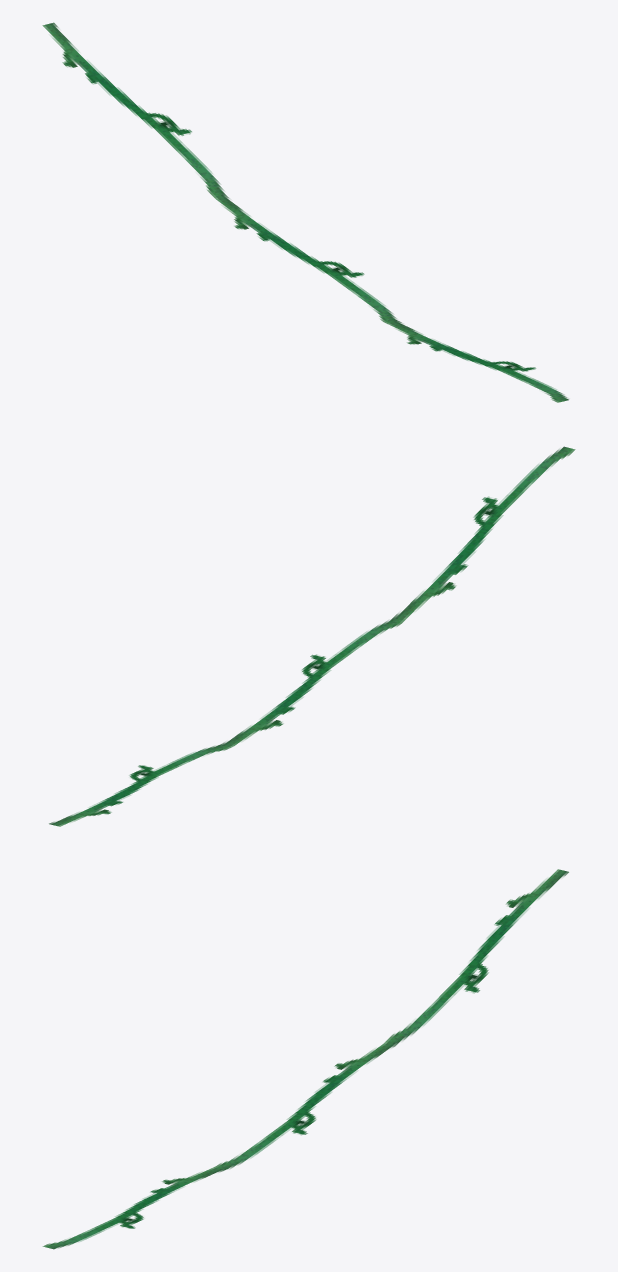
Rendered from bent_vines_2_thin.glb.
3 views of the same model, one above another, from view 1: azimuth 30°, elevation 25°; view 2: azimuth 150°, elevation 25°; view 3: azimuth 330°, elevation 25° (orthographic).
Parts seen in each view (by area): view 1: Bent Vines 2 Thin; view 2: Bent Vines 2 Thin; view 3: Bent Vines 2 Thin.
Part boxes in pixels (bbox=[...]): Bent Vines 2 Thin: bbox=[42, 22, 568, 402]; Bent Vines 2 Thin: bbox=[49, 446, 575, 826]; Bent Vines 2 Thin: bbox=[42, 869, 568, 1249].
Size of the model in its own units: 0.5 by 0.3012 by 6.
1 material, 1 textured.
